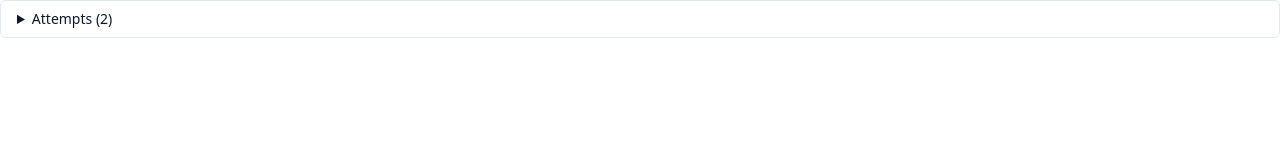
Test: AttemptHistory › lists every attempt newest first, collapsed by default
Click the heading "Attempts (2)": (72, 18) [32,9,112,28]
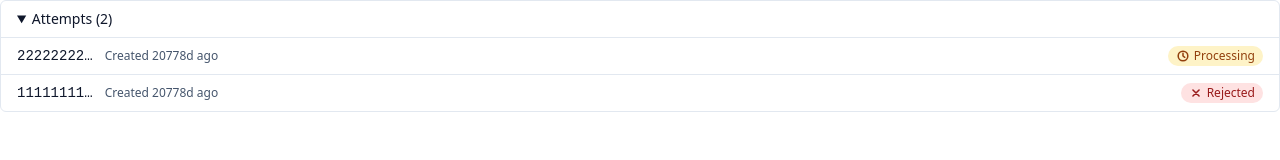
Now the number of list items is 2, box [1,38,1279,75]; [16,83,1263,103]
Now the element titled "op-22222222-bbbb-4bbb-8bbb-bbbbbbbbbbbb" reads "22222222…", box [17,48,93,64]
Now the list item "22222222… Created 20778d ago Processing" is shown, box [1,38,1279,75]
